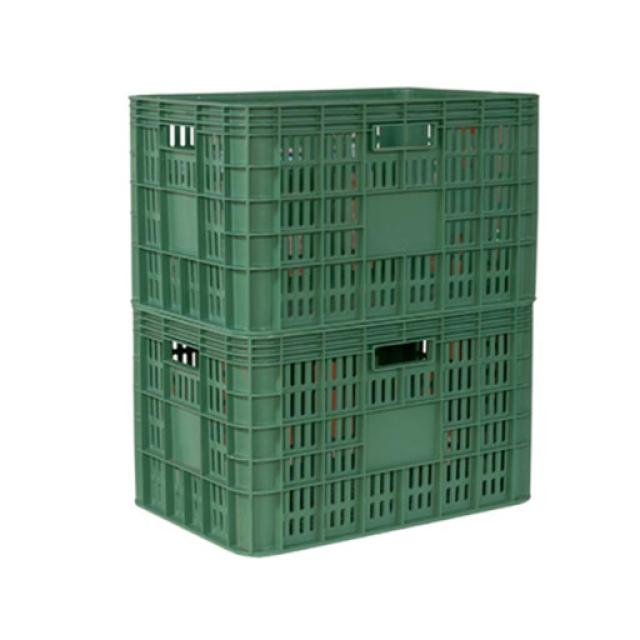basket: (126, 84, 550, 559), (132, 87, 542, 336)
